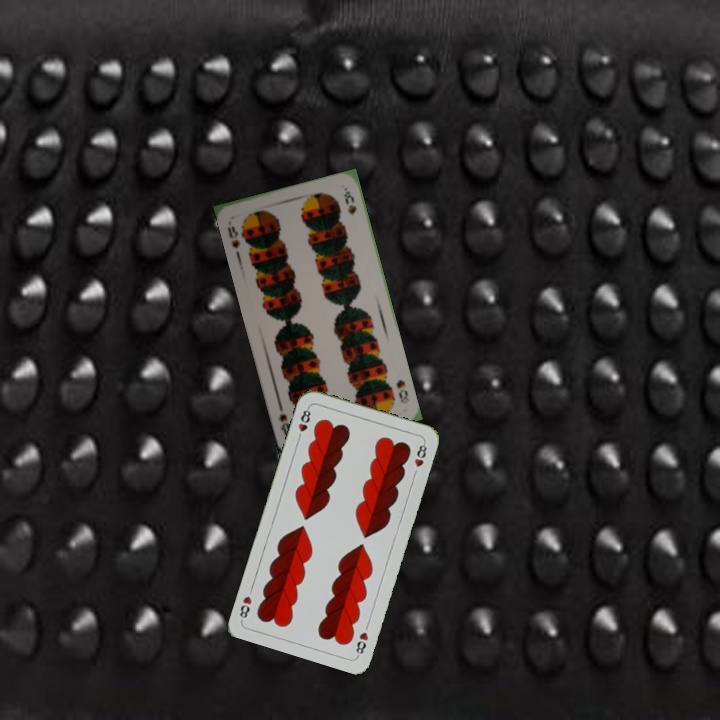H8: (294, 403, 313, 443), (352, 628, 371, 659)
S8: (223, 217, 242, 251), (392, 376, 412, 406)
